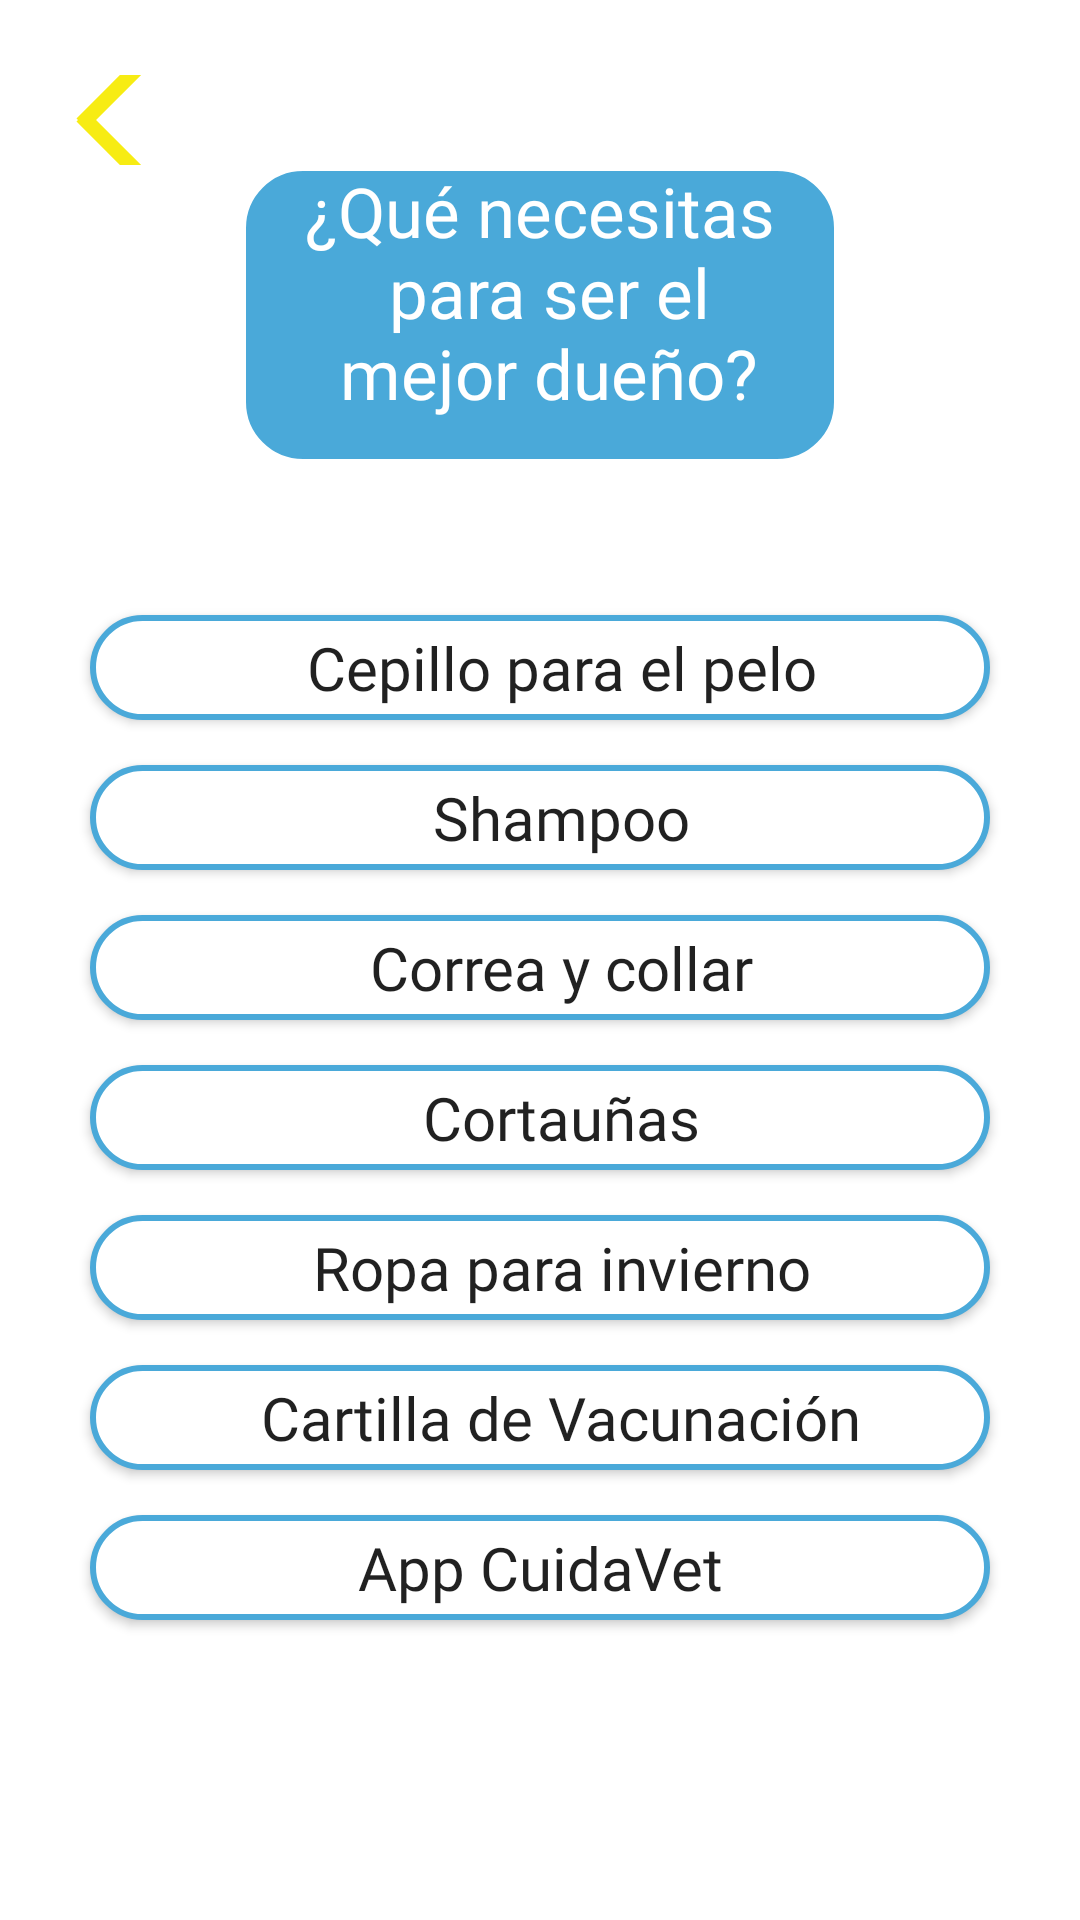

Icons on this 1080×1920 Android screen, each with the point to tap as [x,y]:
flecha: [108,120]
